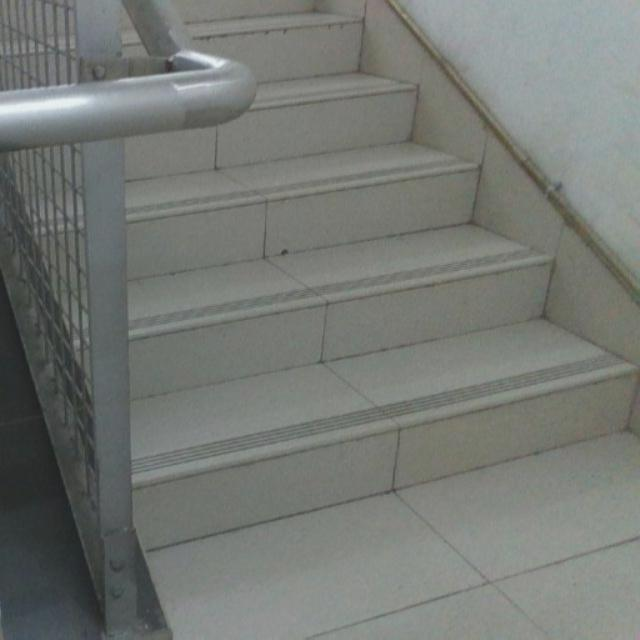stair: (130, 150, 608, 488)
